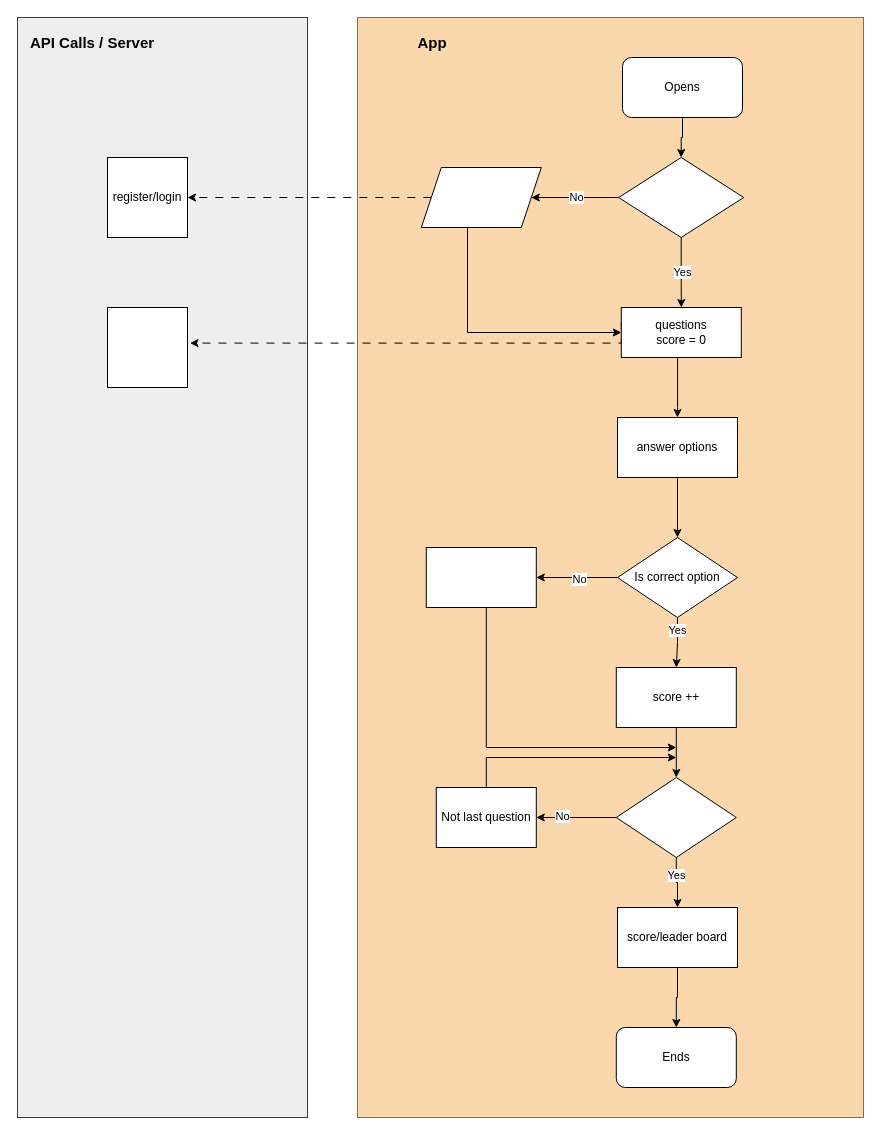
Some shapes in this 881 by 1135 pixel diagram are drawn without their labels. The centre of each missing label's shape, as x and y in pixels:
"Enter your name/email" belongs at pixel 480 197.
"get questions" belongs at pixel 147 347.
"Is last question" belongs at pixel 675 817.
"Is user entered ?" belongs at pixel 681 197.
"wrong option" belongs at pixel 480 577.
